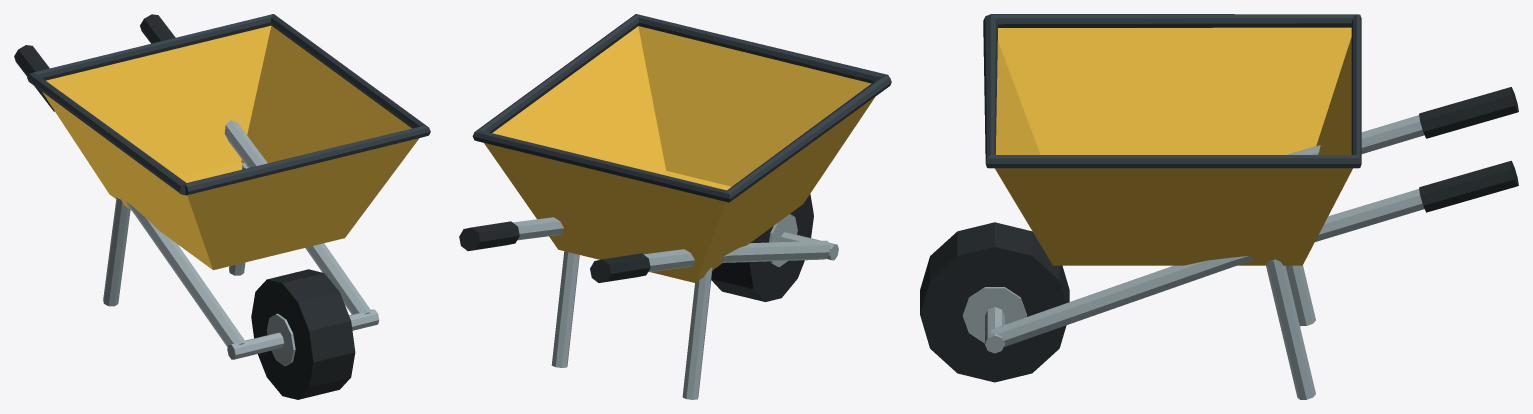
The model's file is Wheelbarrow.glb.
3 renders of one model, left to right at view 1: azimuth 30°, elevation 25°; view 2: azimuth 150°, elevation 25°; view 3: azimuth 270°, elevation 25°, orthographic. The views are drawn at different scales.
Visible parts, largest first — view 1: Wheelbarrow; view 2: Wheelbarrow; view 3: Wheelbarrow.
Part boxes in pixels (x1=…): Wheelbarrow: x1=14, y1=14, x2=430, y2=399; Wheelbarrow: x1=459, y1=14, x2=891, y2=399; Wheelbarrow: x1=920, y1=14, x2=1518, y2=399.
Size of the model in its own units: 0.8313 by 0.758 by 1.44.
